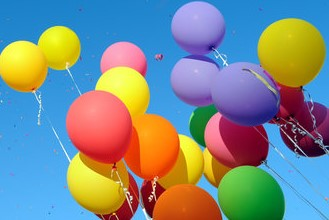Balloon: (256, 18, 329, 88), (65, 90, 131, 159), (211, 61, 280, 127), (123, 112, 180, 181), (66, 151, 129, 211), (217, 167, 285, 220), (206, 112, 269, 167), (172, 2, 225, 56), (1, 41, 47, 92), (37, 26, 81, 70)
